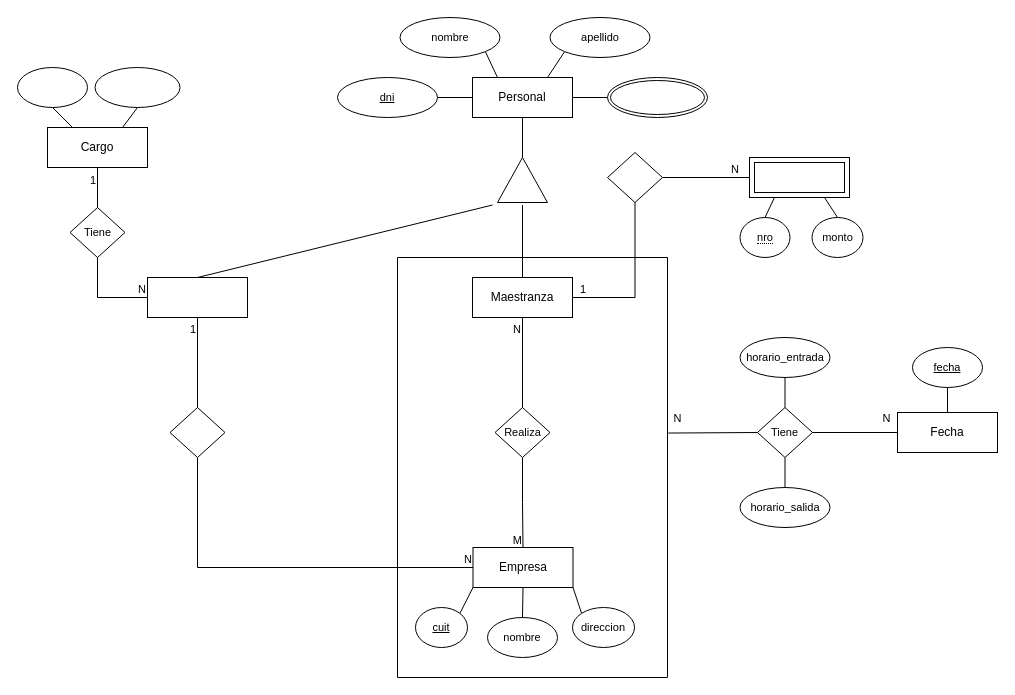
Image size: 1015x695. Some labels were removed from this diagram. The shapes that lost their labels are listed below. From the top down, each one's box as (x1, y1, x2, y2) in pixels, then its label:
(16, 66, 88, 108): codigo
(94, 66, 180, 108): descripcion
(606, 76, 708, 118): telefonos
(496, 156, 548, 202): is_a
(606, 152, 662, 202): Recibe
(748, 156, 850, 198): Bonificacion
(146, 276, 248, 318): Administrativo
(169, 406, 225, 458): Atiende
